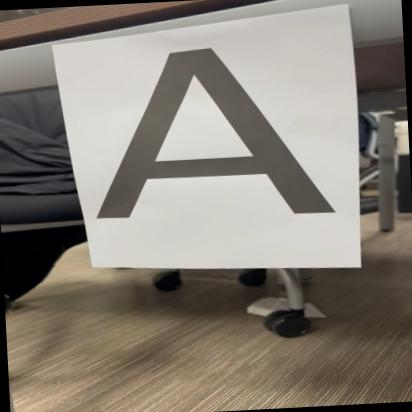seat: (83, 39, 342, 228)
